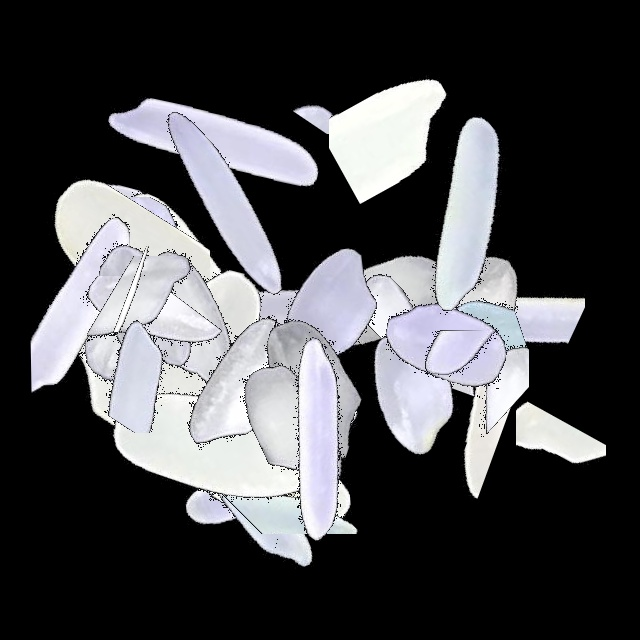Broken: (166, 51, 340, 301), (39, 171, 210, 421), (2, 197, 252, 367), (30, 179, 197, 429), (329, 2, 487, 252), (33, 275, 283, 433), (181, 286, 323, 536), (0, 276, 250, 417), (452, 167, 585, 417), (74, 99, 199, 349), (386, 195, 511, 445), (163, 409, 413, 534), (44, 256, 294, 381), (389, 262, 513, 512), (254, 192, 371, 442), (297, 242, 547, 356), (418, 237, 529, 487), (419, 239, 529, 489), (2, 328, 252, 434), (74, 212, 171, 462), (516, 347, 606, 597), (215, 45, 465, 134), (360, 330, 610, 419), (51, 246, 301, 332), (220, 341, 302, 591), (129, 398, 379, 478)
Full: (266, 178, 516, 428), (145, 338, 395, 588), (163, 325, 413, 575), (28, 276, 278, 526), (352, 194, 602, 444), (2, 193, 252, 443), (56, 156, 306, 406), (146, 302, 396, 552), (286, 265, 536, 515), (142, 253, 392, 503), (140, 345, 390, 595), (65, 223, 315, 473), (124, 370, 374, 620), (59, 198, 309, 448), (88, 13, 338, 263), (319, 219, 569, 469), (20, 178, 270, 428), (336, 87, 586, 337), (206, 179, 456, 429), (85, 324, 335, 574), (113, 262, 363, 512), (186, 264, 436, 514), (166, 305, 416, 555), (188, 314, 438, 564)
